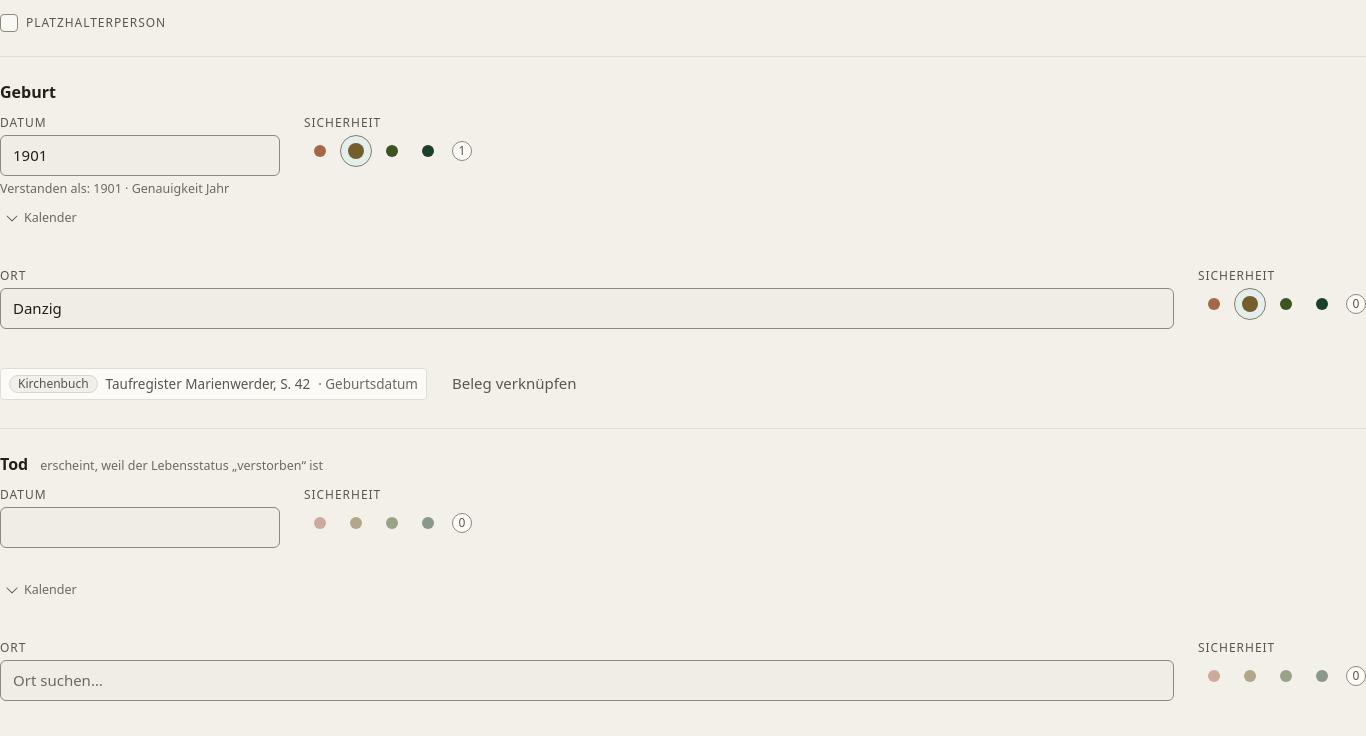
Test: ReiterPerson — Beleg-Zeile und Beleg-Wähler (AP-1.30 PR 9d) › Meldungen und Entfernen (hueter #176 H1/H3, überlebende Mutanten) › „Verknüpfung entfernen" ist gesperrt, solange ein Entfernen läuft
(page scrolled)
Click the button "Kirchenbuch Taufregister Marienwerder, S. 42 · Geburtsdatum" at (214, 384), box [0, 368, 427, 400]
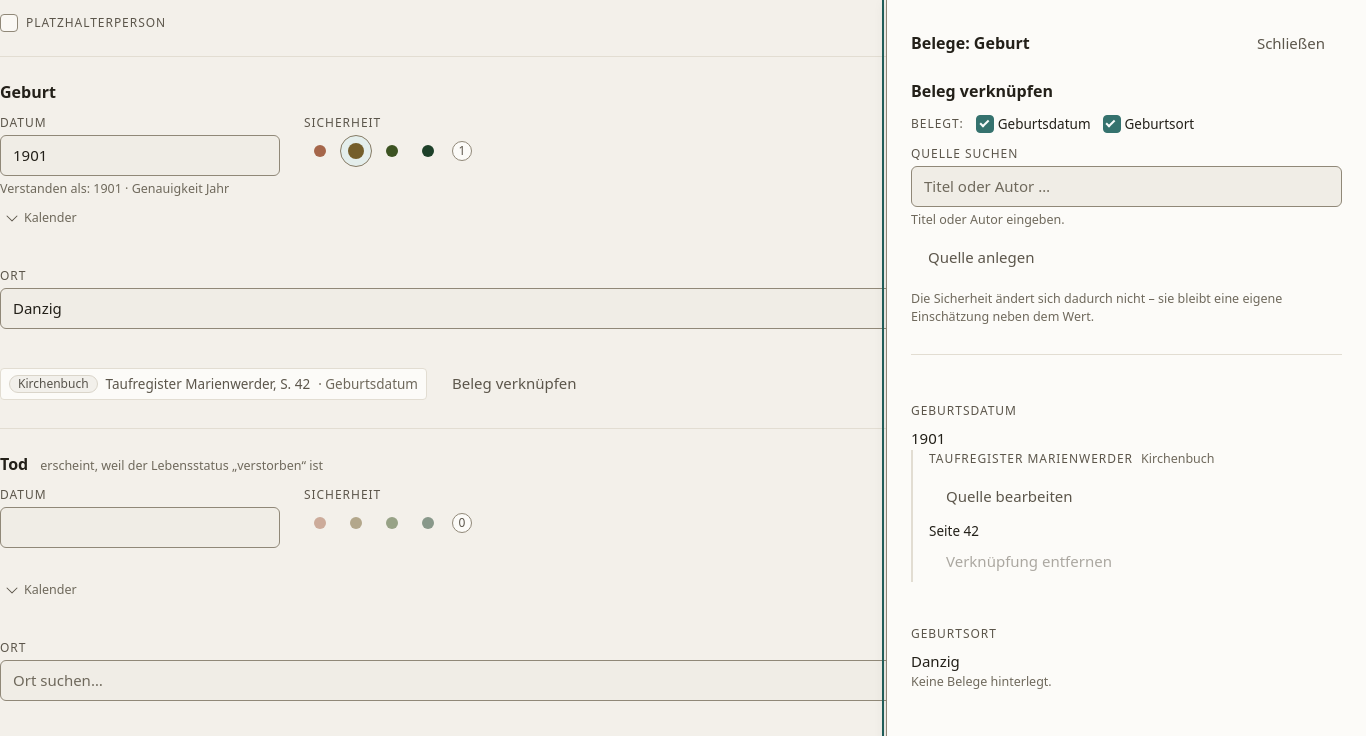
Result: the button "Verknüpfung entfernen" is disabled at [929, 541, 1129, 582]
